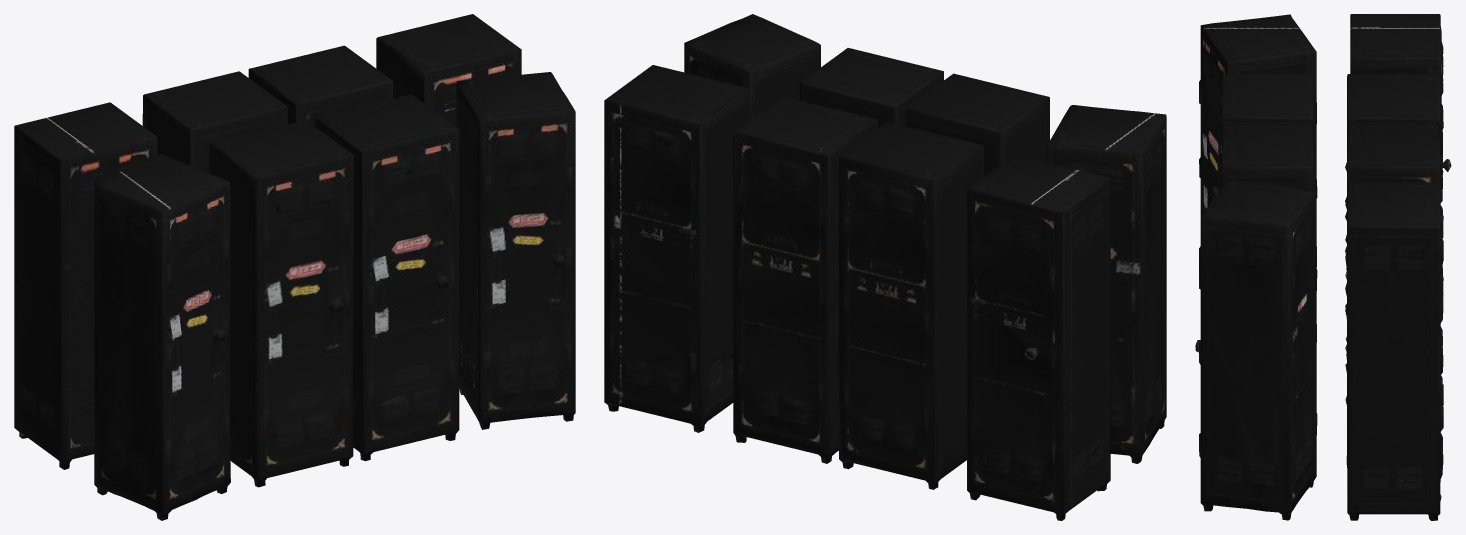
Rendered from lockers.glb.
3 views of the same model, side by side, from view 1: azimuth 30°, elevation 25°; view 2: azimuth 150°, elevation 25°; view 3: azimuth 270°, elevation 25° (orthographic). The views are drawn at different scales.
Parts seen in each view (by area): view 1: lockers; view 2: lockers; view 3: lockers.
Boxes of the visible parts, x1=… form: lockers: x1=14, y1=14, x2=575, y2=520; lockers: x1=604, y1=14, x2=1166, y2=520; lockers: x1=1195, y1=14, x2=1451, y2=520.
Bounding box in the file's own units: 2.78 × 1.8 × 1.4.
Materials: 1 (1 with a texture image).
